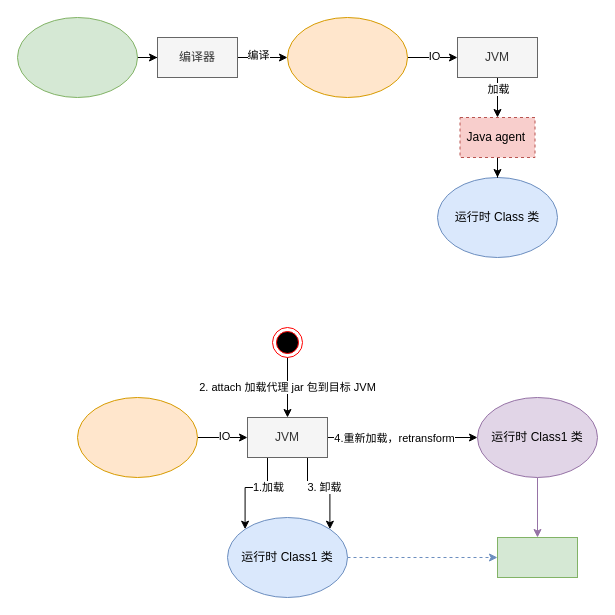
This 615x615 diagram has some shape labels left out. The centre of each missing label's shape, as x and y in pixels:
Class 字节码文件: pixel 347 57
Class1 字节码文件: pixel 137 437
Java 文件: pixel 77 57
运行时使用: pixel 537 557
